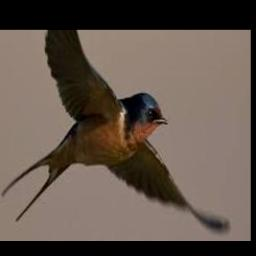Swallow: (2, 30, 233, 241)
